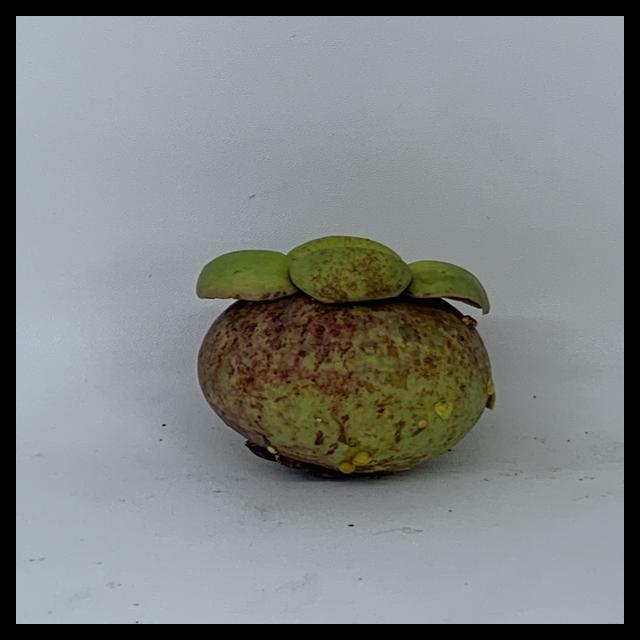mangosteen: (199, 205, 502, 486)
